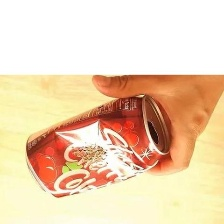can: (13, 95, 176, 199)
